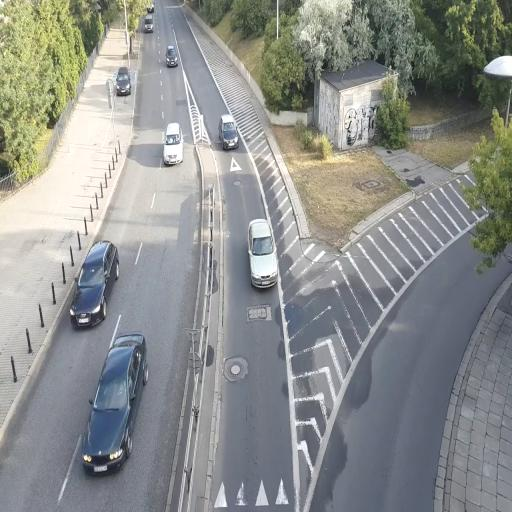vehicle: (82, 330, 148, 476), (70, 238, 120, 328), (70, 265, 108, 329), (248, 218, 279, 290), (162, 122, 183, 165), (220, 117, 239, 150), (114, 67, 132, 96), (166, 43, 178, 67)
